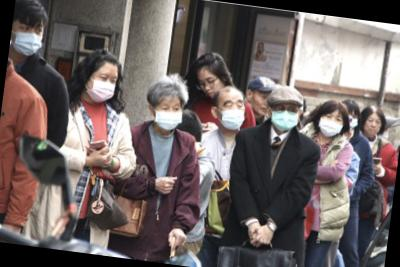with_mask: (10, 19, 46, 60), (86, 69, 119, 107), (152, 98, 185, 134), (219, 95, 248, 133), (269, 103, 301, 134), (317, 111, 346, 140), (346, 111, 361, 132)
without_mask: (194, 73, 224, 100), (360, 113, 385, 139), (253, 89, 272, 119)
